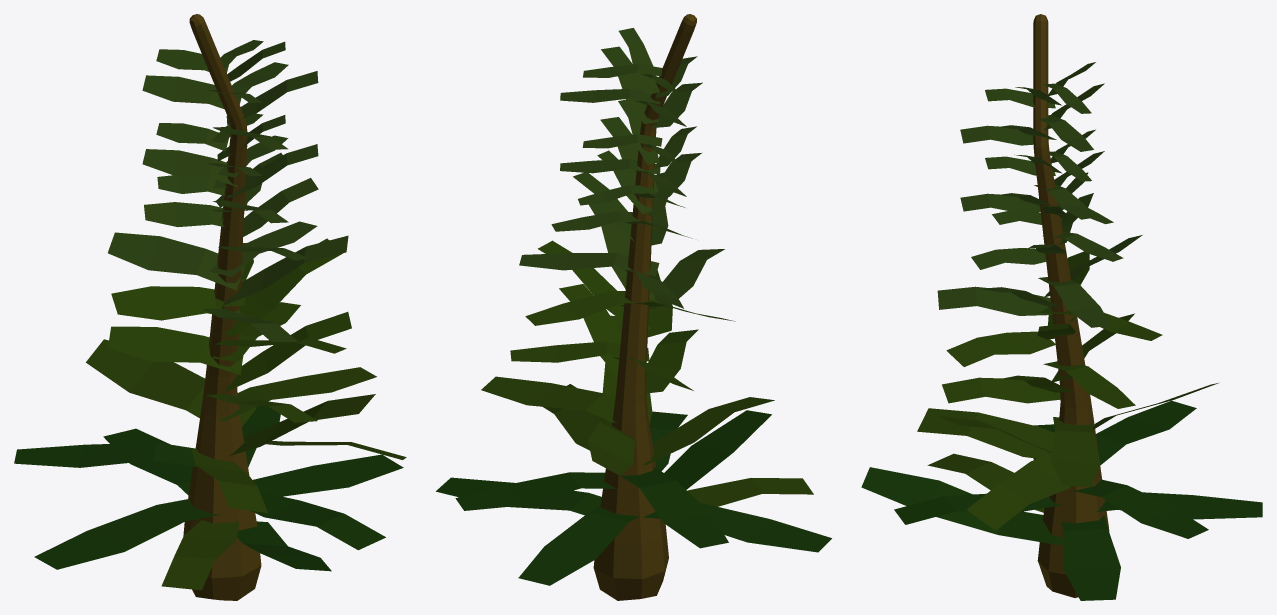
File: _alltree.fbx
3 renders of one model, left to right at view 1: azimuth 30°, elevation 25°; view 2: azimuth 150°, elevation 25°; view 3: azimuth 270°, elevation 25°, orthographic. The views are drawn at different scales.
Parts seen in each view (by area): view 1: Plane.007, Plane.008, Plane, Plane.003, Plane.005, Plane.014, Plane.001; view 2: Plane.007, Plane, Plane.008, Plane.005, Plane.003, Plane.014, Plane.001; view 3: Plane.007, Plane.008, Plane, Plane.003, Plane.005, Plane.014, Plane.001.
Part boxes in pixels (x1,y1,x2,y2): Plane.007: (14, 405, 403, 571); Plane.008: (86, 339, 406, 590); Plane: (183, 14, 261, 600); Plane.003: (108, 153, 348, 341); Plane.005: (142, 40, 318, 223); Plane.014: (108, 302, 351, 422); Plane.001: (111, 238, 346, 353); Plane.007: (436, 410, 831, 585); Plane: (593, 14, 696, 600); Plane.008: (481, 315, 813, 506); Plane.005: (560, 28, 702, 197); Plane.003: (519, 150, 724, 308); Plane.014: (510, 284, 698, 393); Plane.001: (525, 240, 735, 337); Plane.007: (861, 400, 1262, 600); Plane.008: (917, 382, 1219, 530); Plane: (1033, 14, 1109, 597); Plane.003: (937, 172, 1142, 327); Plane.005: (960, 62, 1104, 219); Plane.014: (942, 313, 1135, 408); Plane.001: (946, 251, 1162, 366).
Bounding box in the file's own units: 630 × 972 × 630.
